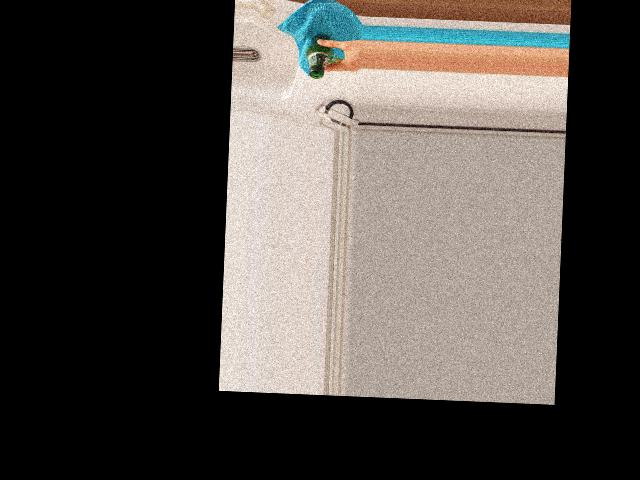beer: (305, 32, 332, 78)
